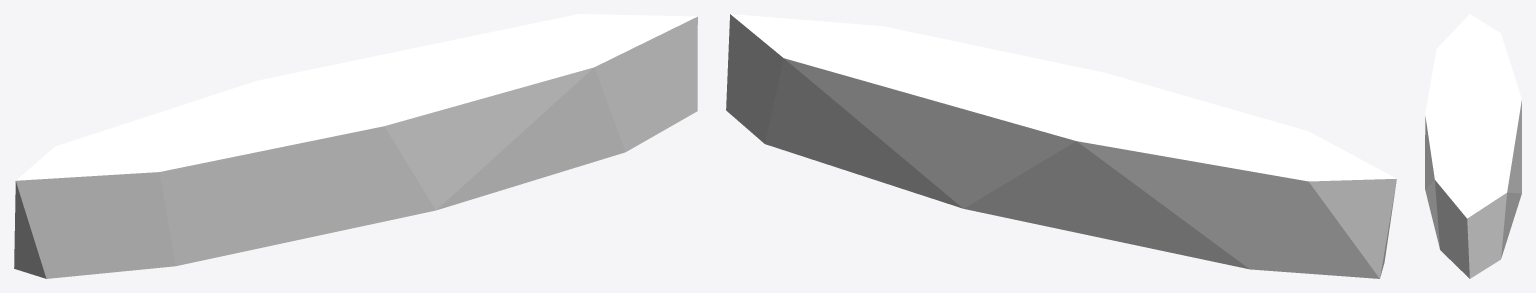
File: BumperCentre.fbx
3 renders of one model, left to right at view 1: azimuth 30°, elevation 25°; view 2: azimuth 150°, elevation 25°; view 3: azimuth 270°, elevation 25°, orthographic. The views are drawn at different scales.
Visible parts, largest first — view 1: Cylinder; view 2: Cylinder; view 3: Cylinder.
Boxes of the visible parts, x1,y1,x2,y2 form: Cylinder: (14, 14, 697, 278); Cylinder: (726, 14, 1396, 278); Cylinder: (1425, 14, 1521, 278).
Bounding box in the file's own units: 1474 × 200 × 294.
